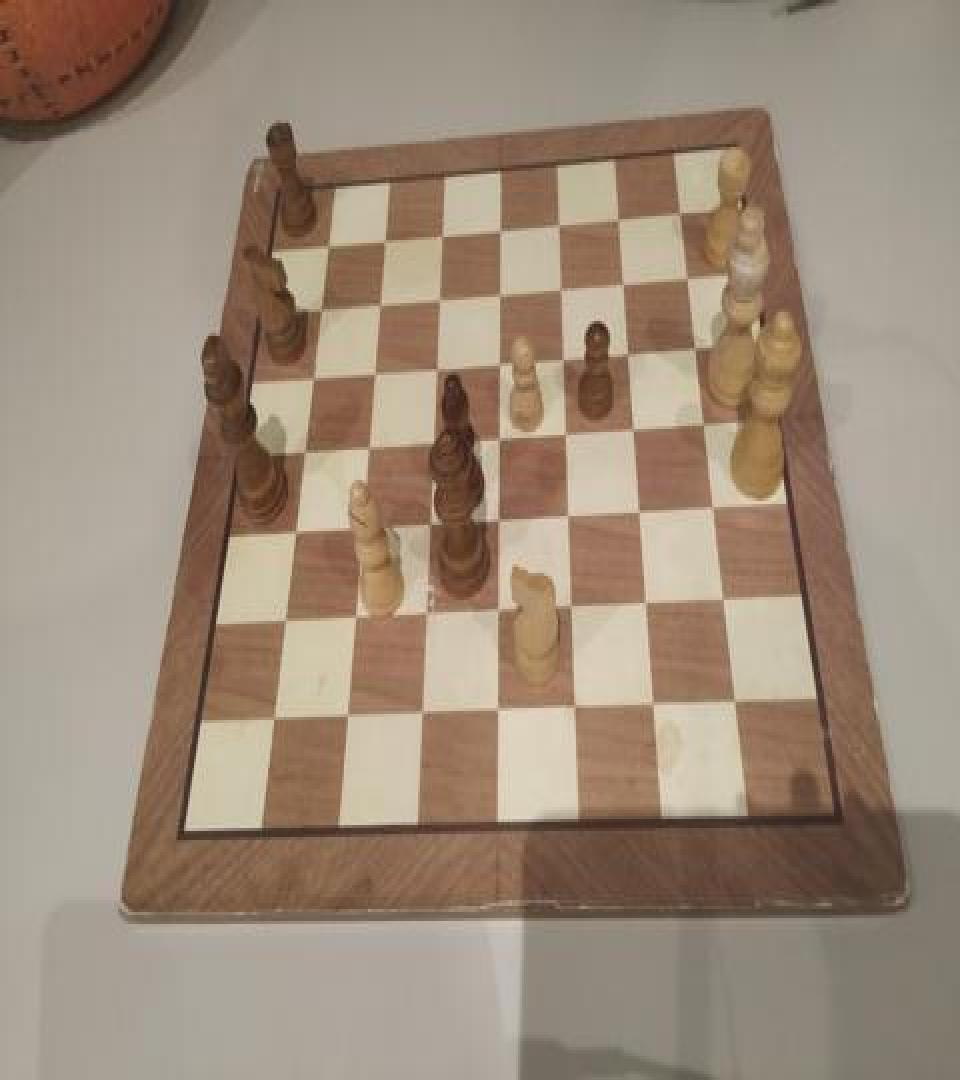xcorner: (563, 499, 583, 530), (262, 708, 282, 738), (337, 705, 357, 735), (413, 702, 433, 732), (570, 694, 590, 724), (650, 692, 670, 722), (731, 687, 751, 717), (345, 604, 365, 634), (417, 600, 437, 630), (566, 592, 586, 622), (642, 588, 662, 618), (719, 584, 739, 614), (284, 518, 304, 548), (352, 513, 372, 543), (421, 508, 441, 538), (491, 504, 511, 534), (635, 495, 655, 525), (708, 490, 728, 520), (293, 435, 313, 465), (358, 430, 378, 460), (424, 426, 444, 456), (491, 420, 511, 450), (559, 416, 579, 446), (628, 411, 648, 441), (698, 405, 718, 435), (302, 360, 322, 390), (364, 354, 384, 384), (427, 350, 447, 380), (492, 344, 512, 374), (557, 339, 577, 369), (622, 333, 642, 363), (689, 328, 709, 358), (310, 290, 330, 320), (370, 285, 390, 315), (430, 279, 450, 309), (492, 274, 512, 304), (554, 268, 574, 298), (617, 264, 637, 294), (681, 258, 701, 288), (317, 226, 337, 256), (375, 220, 395, 250), (433, 216, 453, 246), (492, 210, 512, 240), (552, 204, 572, 234), (612, 198, 632, 228), (673, 194, 693, 224), (491, 698, 511, 727), (273, 608, 293, 637), (491, 596, 511, 625)
